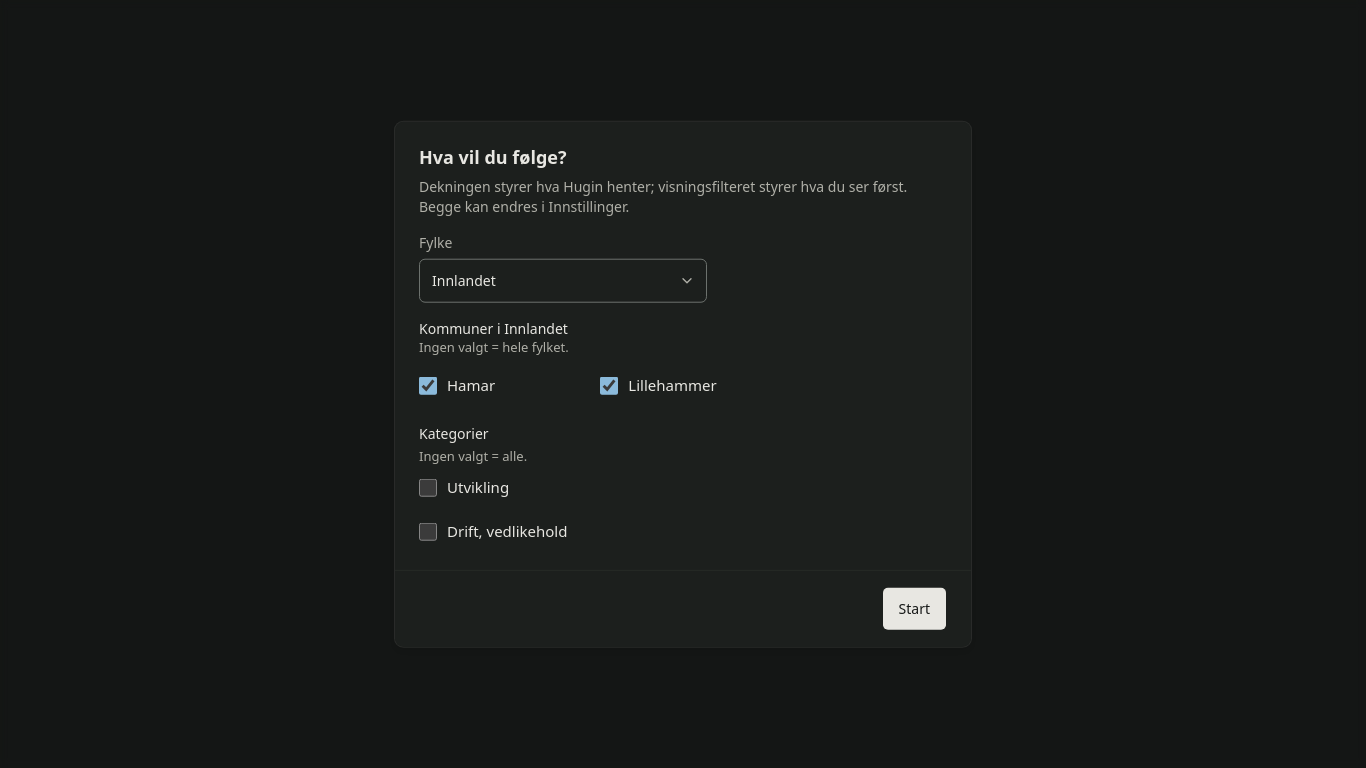
Scenario: FirstRunDialog v2 › a failed PUT still seeds the focus, shows a retryable alert and stays open
The width and height of the screenshot is (1366, 768).
Expected: the element "Kommuner i Innlandet" is shown, [419,318,717,395]
Click the button "Start" at {"x": 914, "y": 608}, box [882,586,947,630]
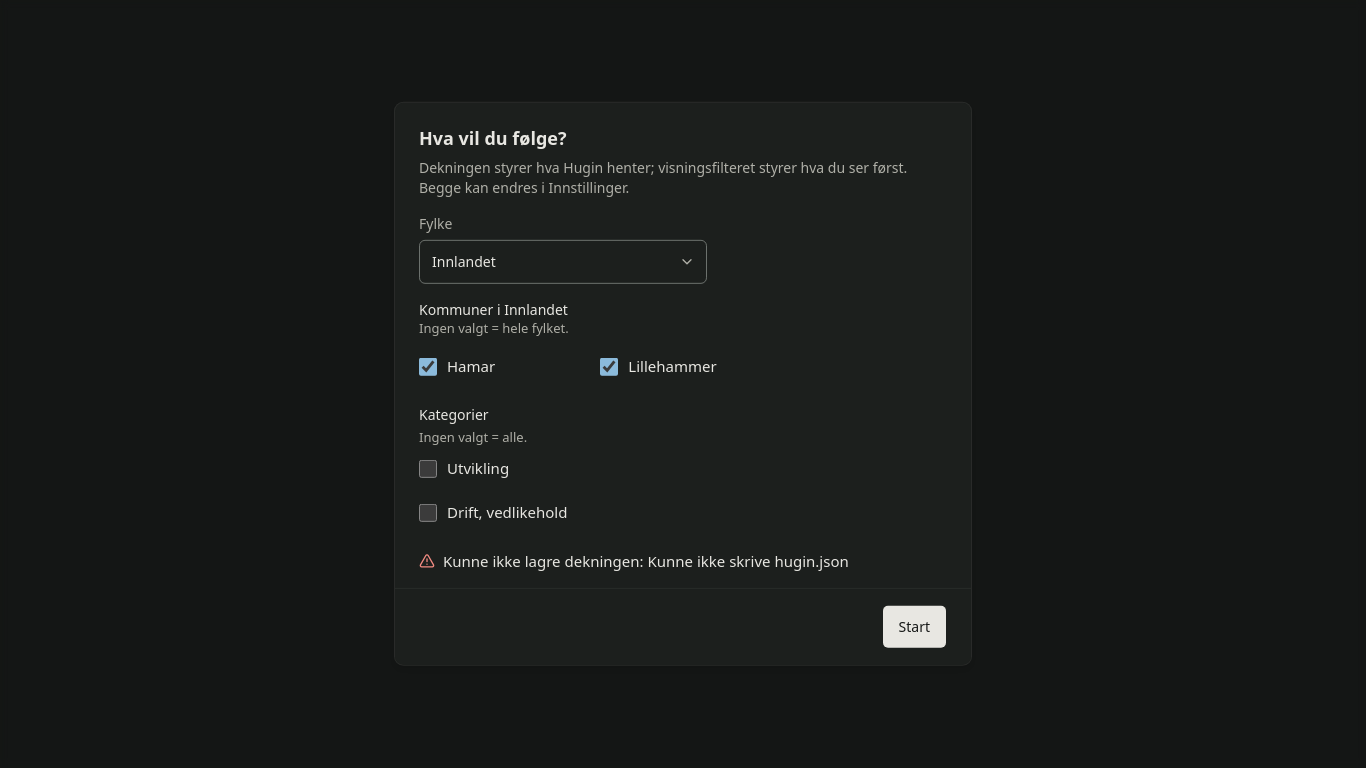
Expected: the button "Start" is enabled, [882,605,947,649]
Expected: the message reads "Kunne ikke lagre dekningen: Kunne ikke skrive hugin.json", [443,550,849,570]
